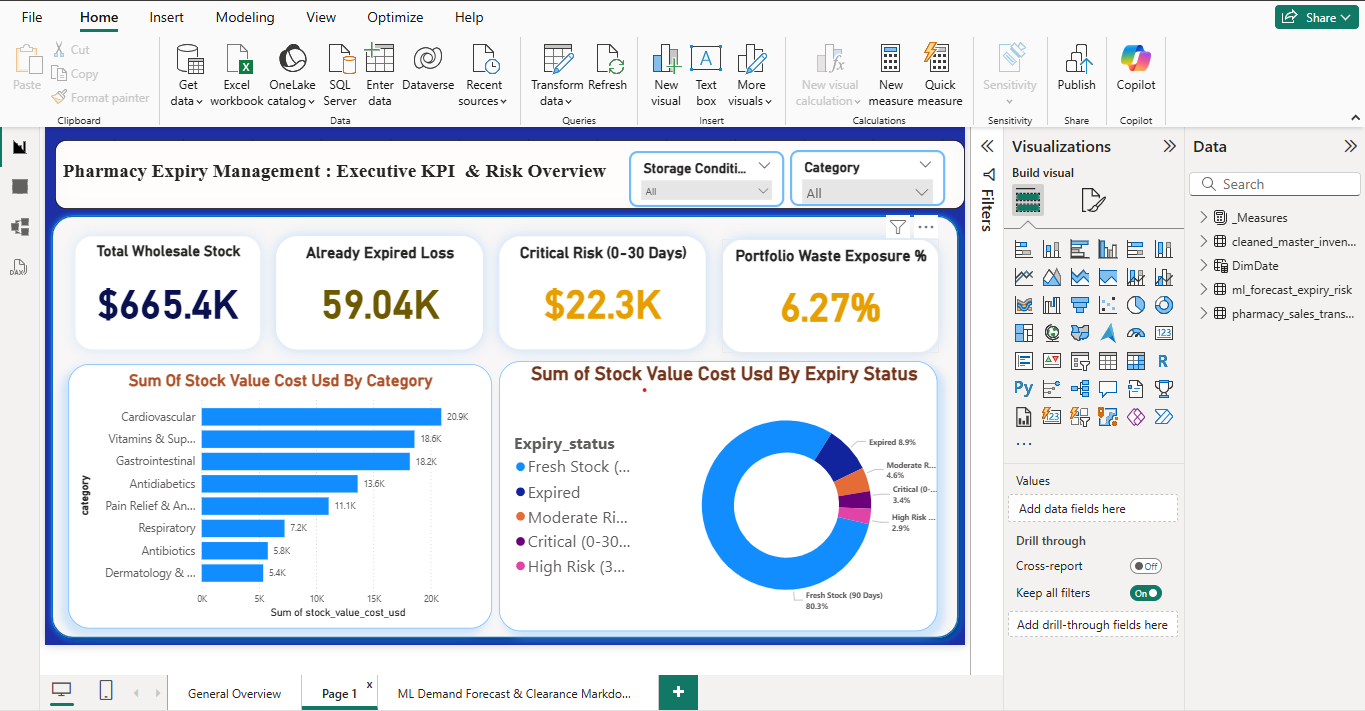

The dashboard page shown, as its layout file describes it:
{"tool":"powerbi","page":{"name":"Risk Overview","canvas":[1280,720],"ordinal":0},"visuals":[{"type":"shape","box":[0,114,1280,606],"z":0},{"type":"card","title":"Already Expired Loss","fields":{"Values":["_Measures.Already Expired Cost Loss"]},"box":[322,152,288,158],"z":1000},{"type":"card","title":"Critical Risk (0-30 Days)","fields":{"Values":["_Measures.Critical Risk Cost (0-30 Days)"]},"box":[632,152,288,158],"z":2000},{"type":"textbox","box":[14,18,1266,96],"z":3000},{"type":"clusteredBarChart","title":"Sum Of Stock Value Cost Usd By Category","fields":{"Category":["cleaned_master_inventory.category"],"Y":["Sum(cleaned_master_inventory.stock_value_cost_usd)"]},"box":[32,330,590,368],"z":4000},{"type":"donutChart","title":"Sum of Stock Value Cost Usd By Expiry Status","fields":{"Category":["cleaned_master_inventory.expiry_status"],"Y":["Sum(cleaned_master_inventory.stock_value_cost_usd)"]},"box":[632,326,610,376],"z":5000},{"type":"slicer","fields":{"Values":["cleaned_master_inventory.category"]},"box":[1036,32,216,78],"z":6000},{"type":"slicer","title":"Storage Conditio","fields":{"Values":["cleaned_master_inventory.storage_type"]},"box":[812,34,216,78],"z":7000},{"type":"card","title":"Total Wholesale Stock","fields":{"Values":["_Measures.Total Wholesale Stock Value"]},"box":[42,152,258,158],"z":8000},{"type":"card","title":"Portfolio Waste Exposure %","fields":{"Values":["_Measures.Portfolio Waste Exposure %"]},"box":[942,156,302,158],"z":9000}]}

Visuals, with their boxes on the page's 1280x720 design canvas (x1, y1, x2, y2). These are canvas units, not pixel positions in the 1365x711 screenshot, which may show the page scaled, cropped or inside an application window:
shape: Rect(0, 114, 1280, 720)
"Already Expired Loss" card: Rect(322, 152, 610, 310)
"Critical Risk (0-30 Days)" card: Rect(632, 152, 920, 310)
textbox: Rect(14, 18, 1280, 114)
"Sum Of Stock Value Cost Usd By Category" clusteredBarChart: Rect(32, 330, 622, 698)
"Sum of Stock Value Cost Usd By Expiry Status" donutChart: Rect(632, 326, 1242, 702)
slicer - cleaned_master_inventory.category: Rect(1036, 32, 1252, 110)
"Storage Conditio" slicer: Rect(812, 34, 1028, 112)
"Total Wholesale Stock" card: Rect(42, 152, 300, 310)
"Portfolio Waste Exposure %" card: Rect(942, 156, 1244, 314)
